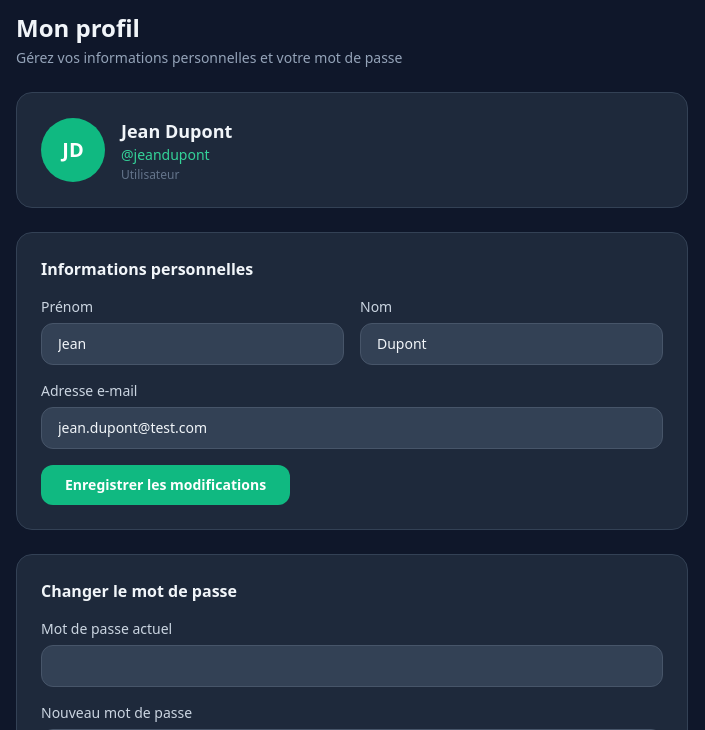
Test: ProfilePage › Formulaire informations personnelles › affiche l'état de chargement pendant la mise à jour
The image size is (705, 730).
What coordinates should you click on to do the following:
click the button "Enregistrer les modifications"
I would click on:
 (166, 485)
Its box is [41,465,290,505].
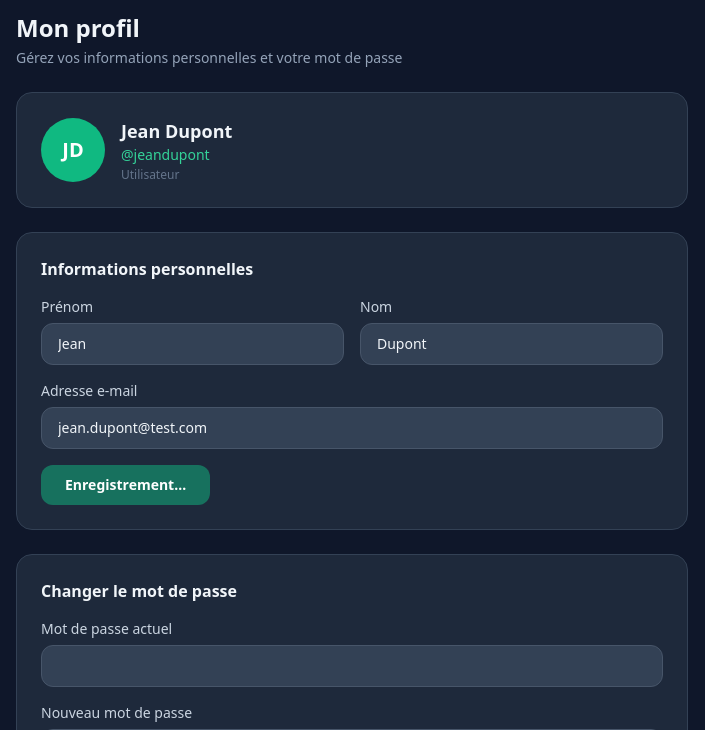
Now the button "Enregistrement..." is shown, box [41,465,210,505]
